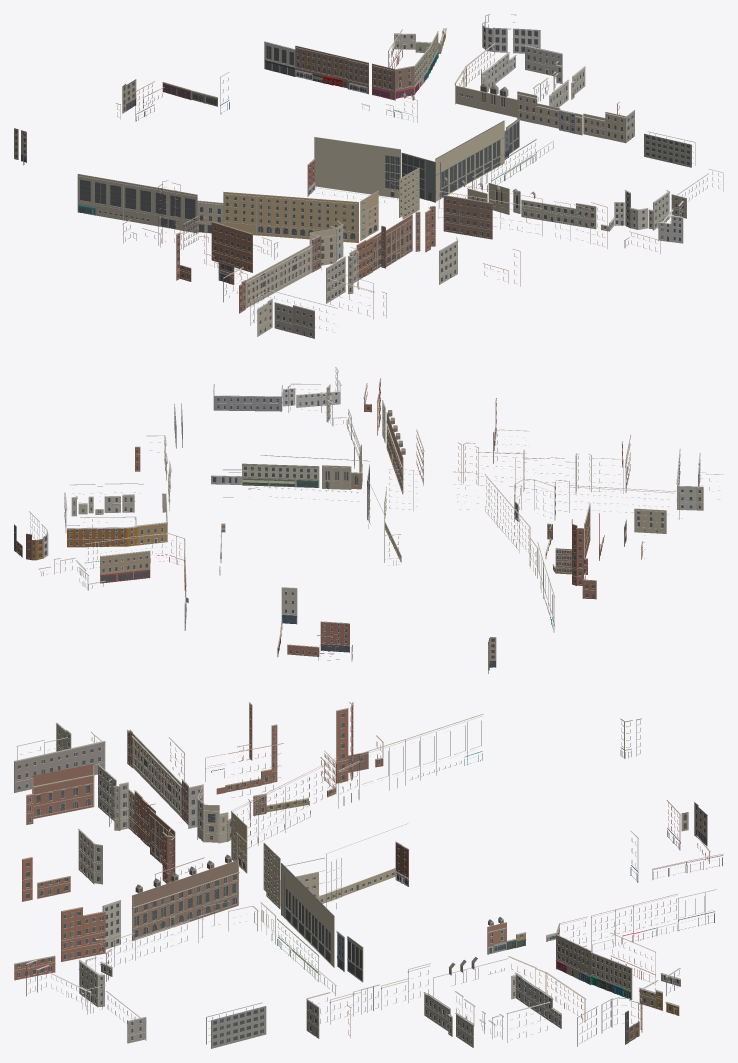
3 views of the same model, one above another, from view 1: azimuth 30°, elevation 25°; view 2: azimuth 150°, elevation 25°; view 3: azimuth 270°, elevation 25° (orthographic). The views are drawn at different scales.
Parts seen in each view (by area): view 1: f:way/40937939, f:way/40939407, f:way/5236376, f:way/131662340, f:way/1039073567, f:way/40900608, f:way/161131062, f:way/1466828397, f:way/131636839, f:way/161131067, f:way/136601300, f:way/28343062 (+14 smaller); view 2: f:way/131662340, f:way/1039073567, f:way/227825136, f:way/161131046, f:way/40900608, f:relation/18902596, f:way/40939407, f:way/191546278, f:way/161131062, f:way/141330781, f:way/375384962, f:way/225571644 (+7 smaller); view 3: f:way/40900608, f:way/131662340, f:way/28343062, f:way/40937939, f:way/1039073567, f:way/40939407, f:relation/18902596, f:way/136601300, f:way/28364543, f:way/161131056, f:way/161131062, f:way/161131046 (+18 smaller).
Boxes of the visible parts, x1,y1,x2,y2 form: f:way/40937939: (314,118,519,202); f:way/40939407: (223,167,419,242); f:way/5236376: (77,174,223,233); f:way/131662340: (183,215,343,313); f:way/1039073567: (295,29,438,100); f:way/40900608: (373,177,542,271); f:way/161131062: (517,61,585,123); f:way/1466828397: (601,189,670,231); f:way/131636839: (521,199,596,229); f:way/161131067: (454,70,517,117); f:way/136601300: (254,289,337,338); f:way/28343062: (326,247,374,318); f:way/131662340: (514,479,684,574); f:way/1039073567: (84,533,188,606); f:way/227825136: (242,463,319,487); f:way/161131046: (66,516,137,547); f:way/40900608: (386,410,537,494); f:relation/18902596: (571,513,646,599); f:way/40939407: (384,469,530,565); f:way/191546278: (213,384,282,411); f:way/161131062: (70,475,171,516); f:way/141330781: (322,443,362,489); f:way/375384962: (320,621,349,652); f:way/225571644: (283,367,341,407); f:way/40900608: (132,803,239,941); f:way/131662340: (127,729,336,843); f:way/28343062: (32,763,134,833); f:way/40937939: (281,823,408,982); f:way/1039073567: (555,894,677,1000); f:way/40939407: (231,757,395,909); f:relation/18902596: (237,702,383,783); f:way/136601300: (14,735,105,792); f:way/28364543: (61,907,105,961); f:way/161131056: (206,1002,266,1048); f:way/161131062: (408,963,503,1047); f:way/161131046: (514,968,585,1028).
Bounding box in the file's own units: 254 × 32.61 × 257.
